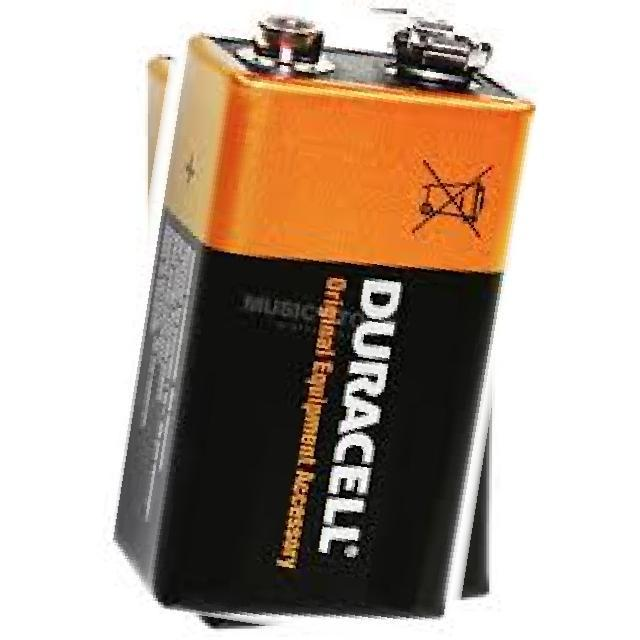Battery: (105, 17, 543, 616)
